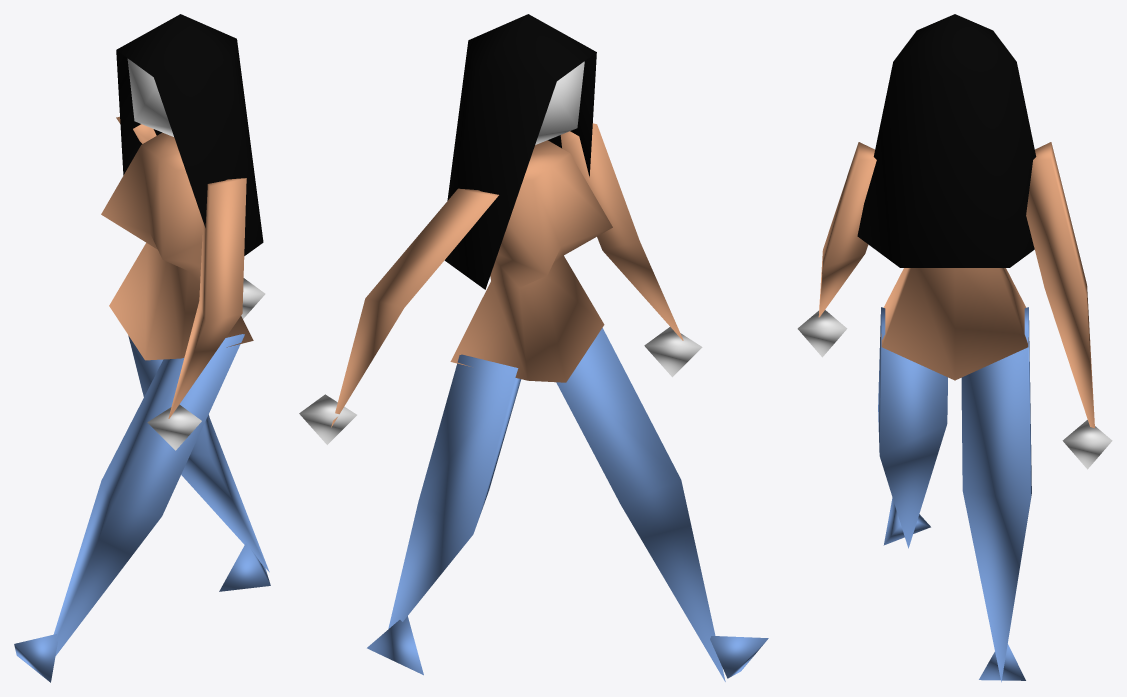
File: Man.glb
3 views of the same model, side by side, from view 1: azimuth 30°, elevation 25°; view 2: azimuth 150°, elevation 25°; view 3: azimuth 270°, elevation 25° (orthographic). The views are drawn at different scales.
Visible parts, largest first — view 1: Plane; view 2: Plane; view 3: Plane.
Boxes of the visible parts, bbox=[...] form: Plane: bbox=[14, 14, 270, 682]; Plane: bbox=[299, 14, 768, 681]; Plane: bbox=[797, 14, 1112, 682].
Bounding box in the file's own units: 6.37 × 11.23 × 5.12.
